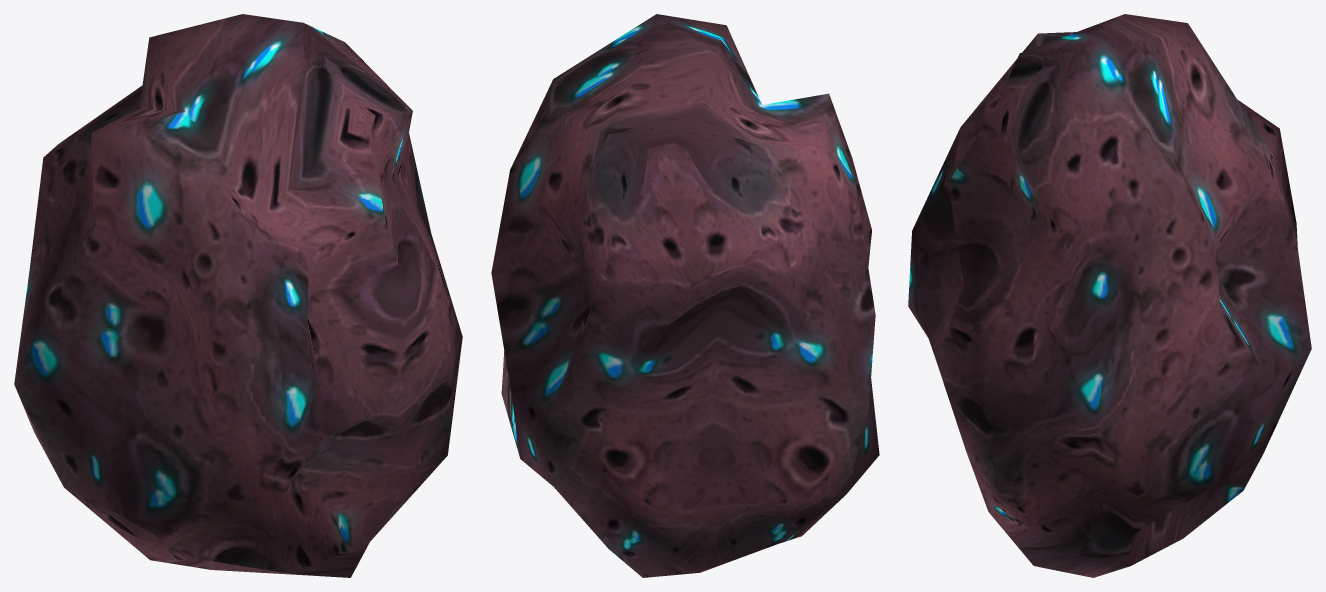
File: Asteroid_Lrg_A_01.FBX
3 views of the same model, side by side, from view 1: azimuth 30°, elevation 25°; view 2: azimuth 150°, elevation 25°; view 3: azimuth 270°, elevation 25° (orthographic). The views are drawn at different scales.
Parts seen in each view (by area): view 1: Asteroid_Lrg_A_01; view 2: Asteroid_Lrg_A_01; view 3: Asteroid_Lrg_A_01.
Boxes of the visible parts, left/top/right/bottom form: Asteroid_Lrg_A_01: left=14, top=14, right=462, bottom=577; Asteroid_Lrg_A_01: left=491, top=14, right=879, bottom=577; Asteroid_Lrg_A_01: left=908, top=14, right=1311, bottom=577.
Size of the model in its own units: 767 by 1015 by 699.
1 material, 1 textured.
